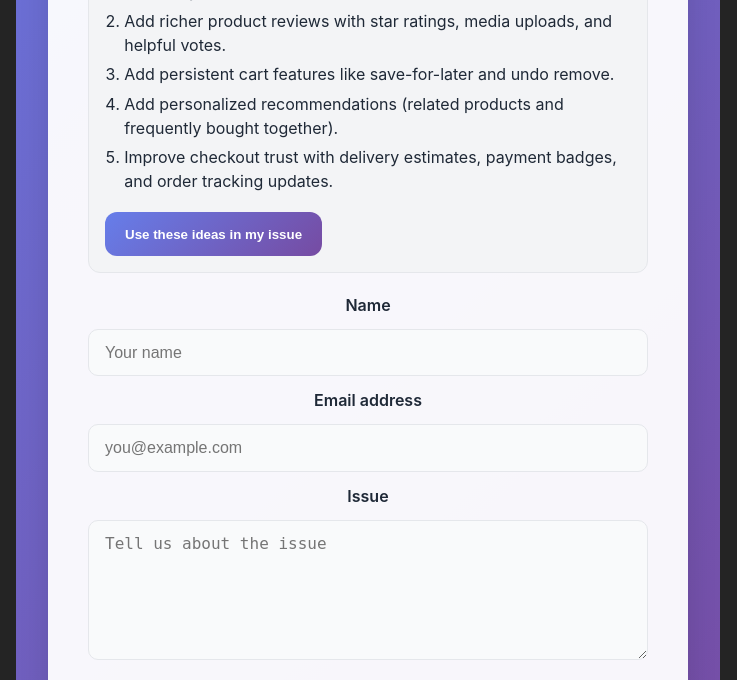
Test case: ContactPage › shows confirmation after submitting the form
(page scrolled)
Type "Jane" into the field with placeholder "Your name". click: (368, 353)
box: [88,329,648,376]
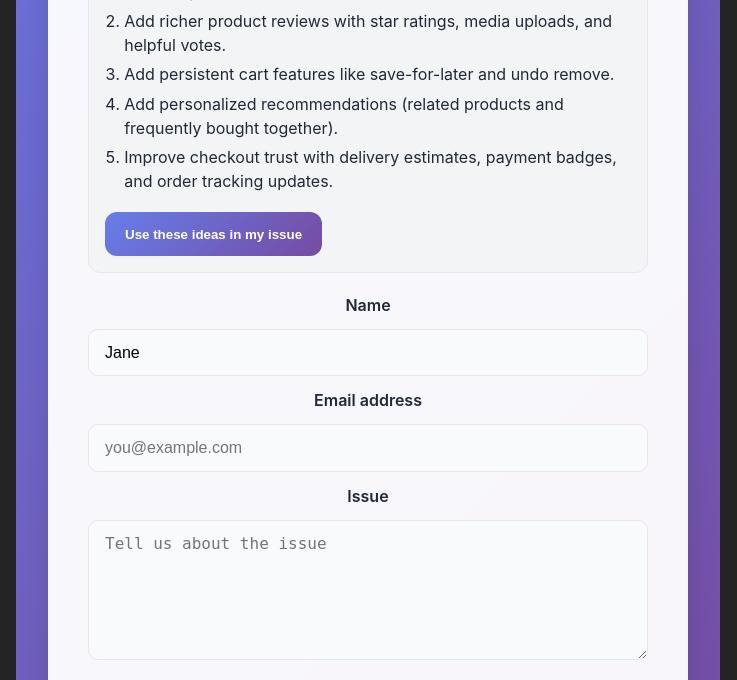
Type "jane@example.com" into the field with placeholder "you@example.com". click: (368, 448)
box: [88,424,648,472]
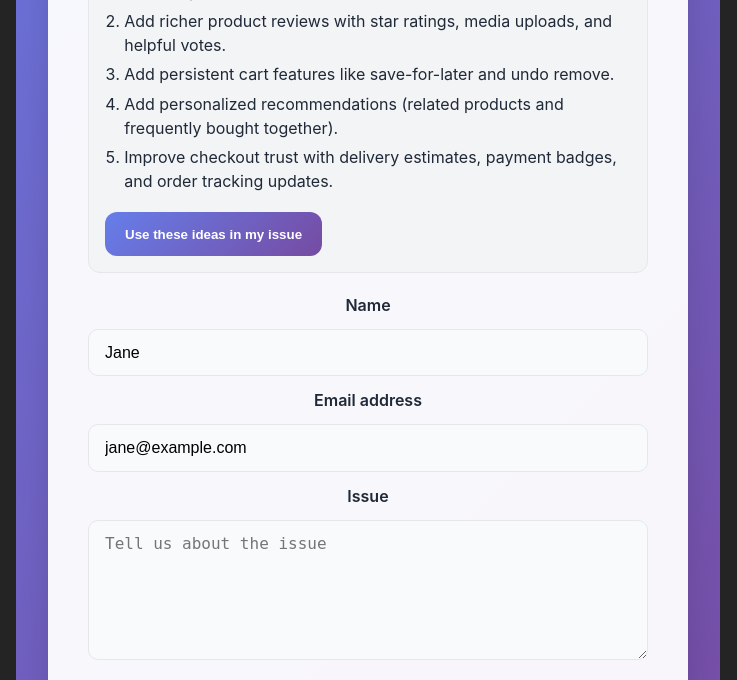
Type "Need help" into the text box with placeholder "Tell us about the issue". click: (368, 590)
box: [88,520,648,660]
(page scrolled)
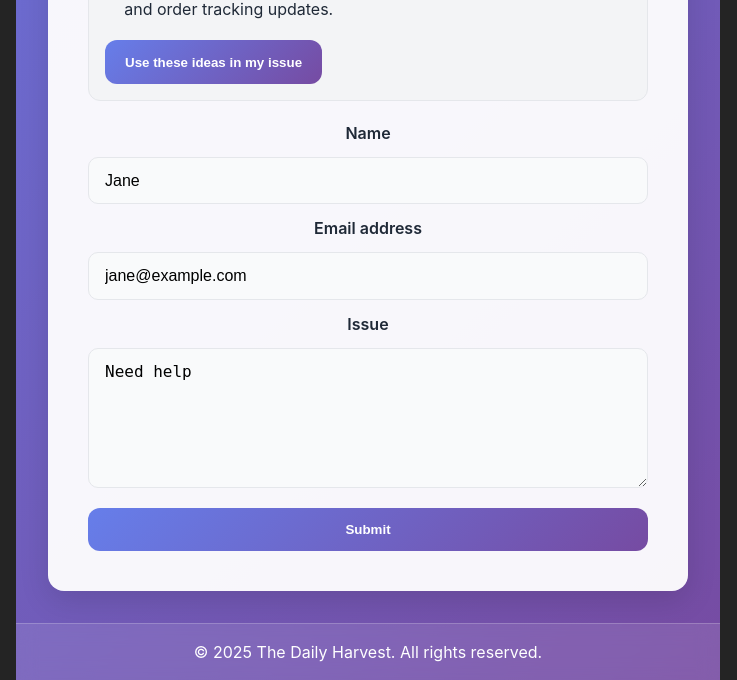
Click the button "Submit". click: (368, 530)
box: [88,508,648,551]
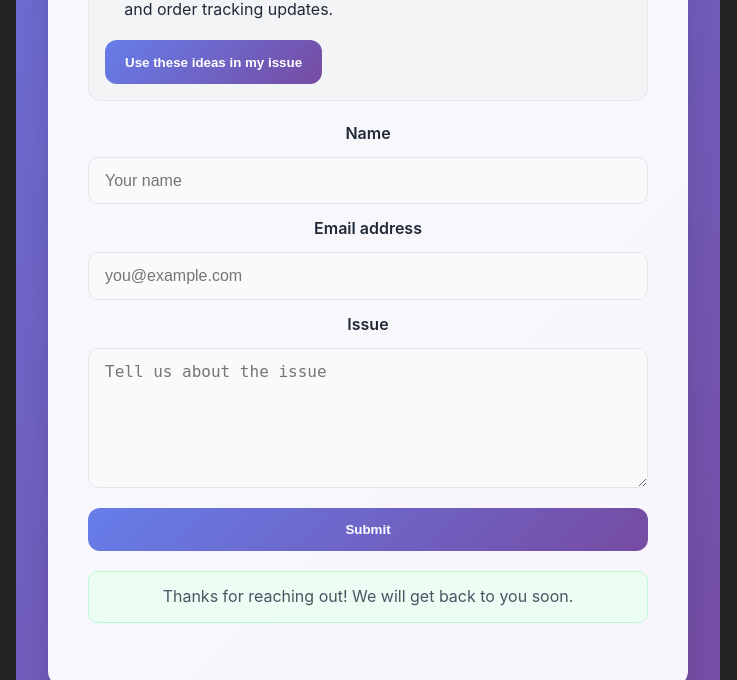
Expected: the text "Thanks for reaching out! We will get back to you soon." is shown, [88,571,648,623]
